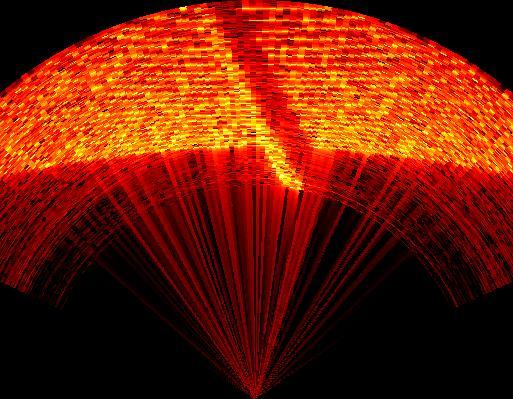pipe: (192, 3, 314, 194)
